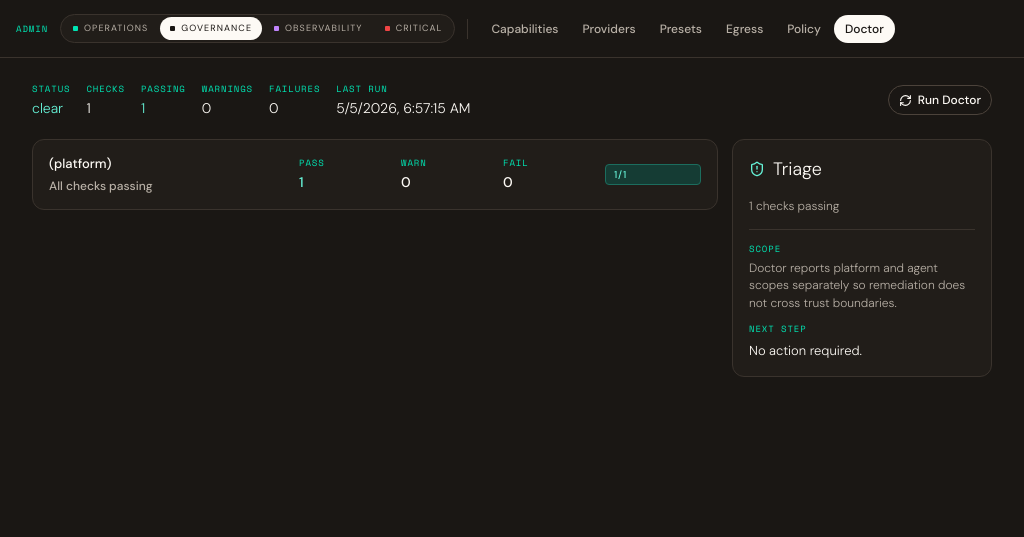
Test: Admin — Doctor tab › shows recovery shortcuts when doctor finds issues
The width and height of the screenshot is (1024, 537).
Click the button "Run Doctor". click: (940, 100)
box: x1=888 y1=85 x2=992 y2=115
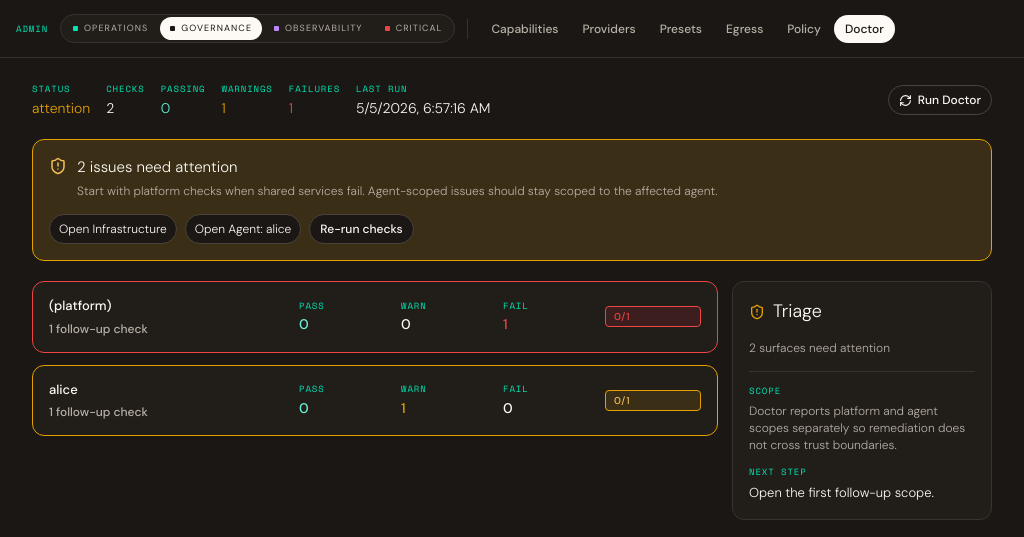
Check: the text "2 issues need attention" is shown, box x1=77 y1=156 x2=238 y2=176
